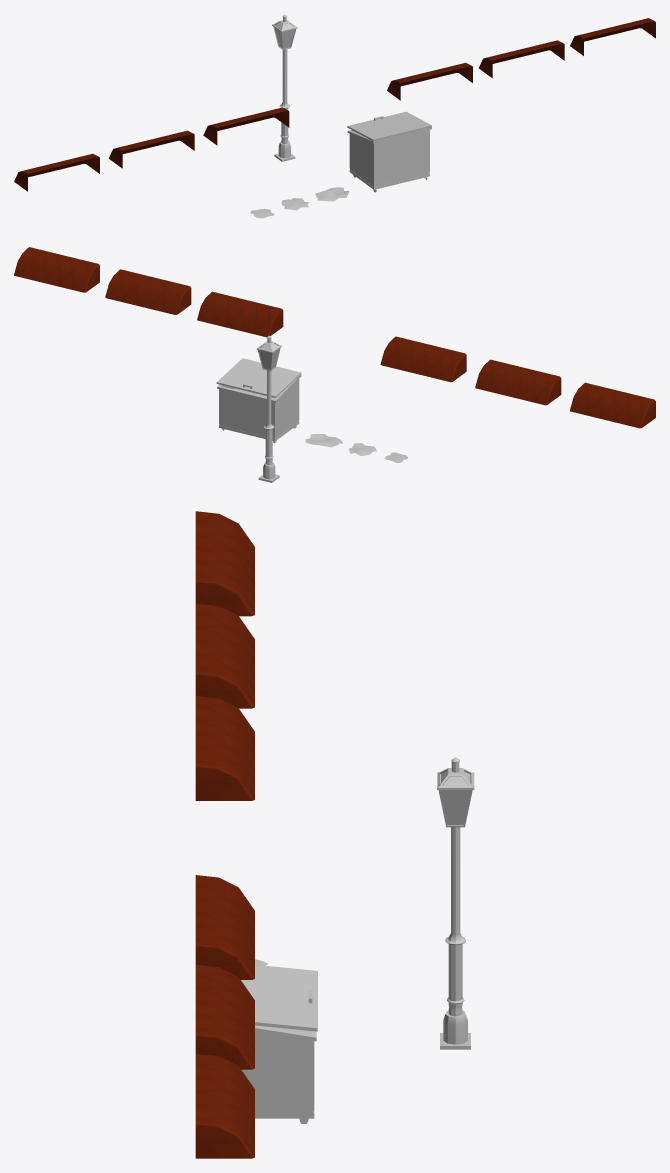
Rendered from Decor outside.fbx.
3 renders of one model, top to bottom at view 1: azimuth 30°, elevation 25°; view 2: azimuth 150°, elevation 25°; view 3: azimuth 270°, elevation 25°, orthographic. The views are drawn at different scales.
Parts seen in each view (by area): view 1: naves, trash, lamp, trash3; view 2: naves, trash, lamp, trash3; view 3: naves, trash, lamp.
Part boxes in pixels (<box>): naves: <box>14,18,655,191</box>; trash: <box>347,111,431,192</box>; lamp: <box>272,14,297,161</box>; trash3: <box>315,187,349,201</box>; naves: <box>14,247,655,428</box>; trash: <box>216,358,301,442</box>; lamp: <box>256,335,281,482</box>; trash3: <box>305,434,342,447</box>; naves: <box>195,511,254,1158</box>; trash: <box>241,964,317,1123</box>; lamp: <box>437,757,474,1049</box>.
Bounding box in the file's own units: 9.39 × 2.04 × 1.8.
